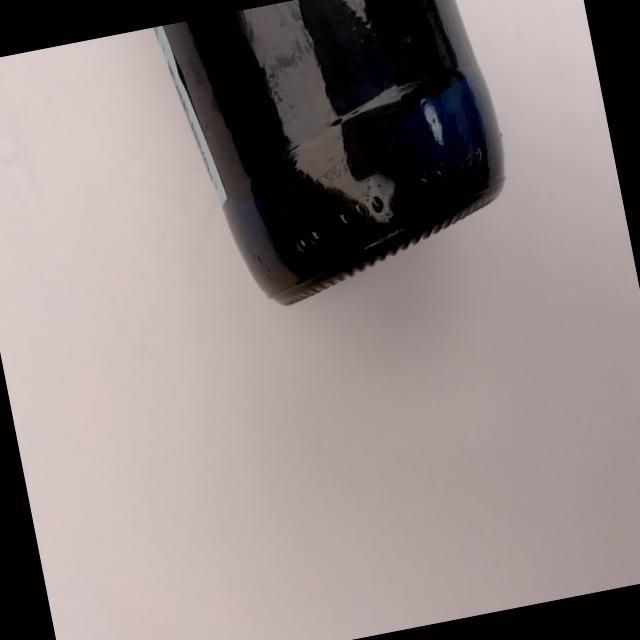glass: (139, 0, 541, 329)
